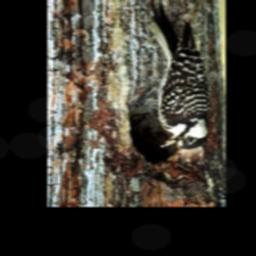Woodpecker: (146, 0, 209, 152)
